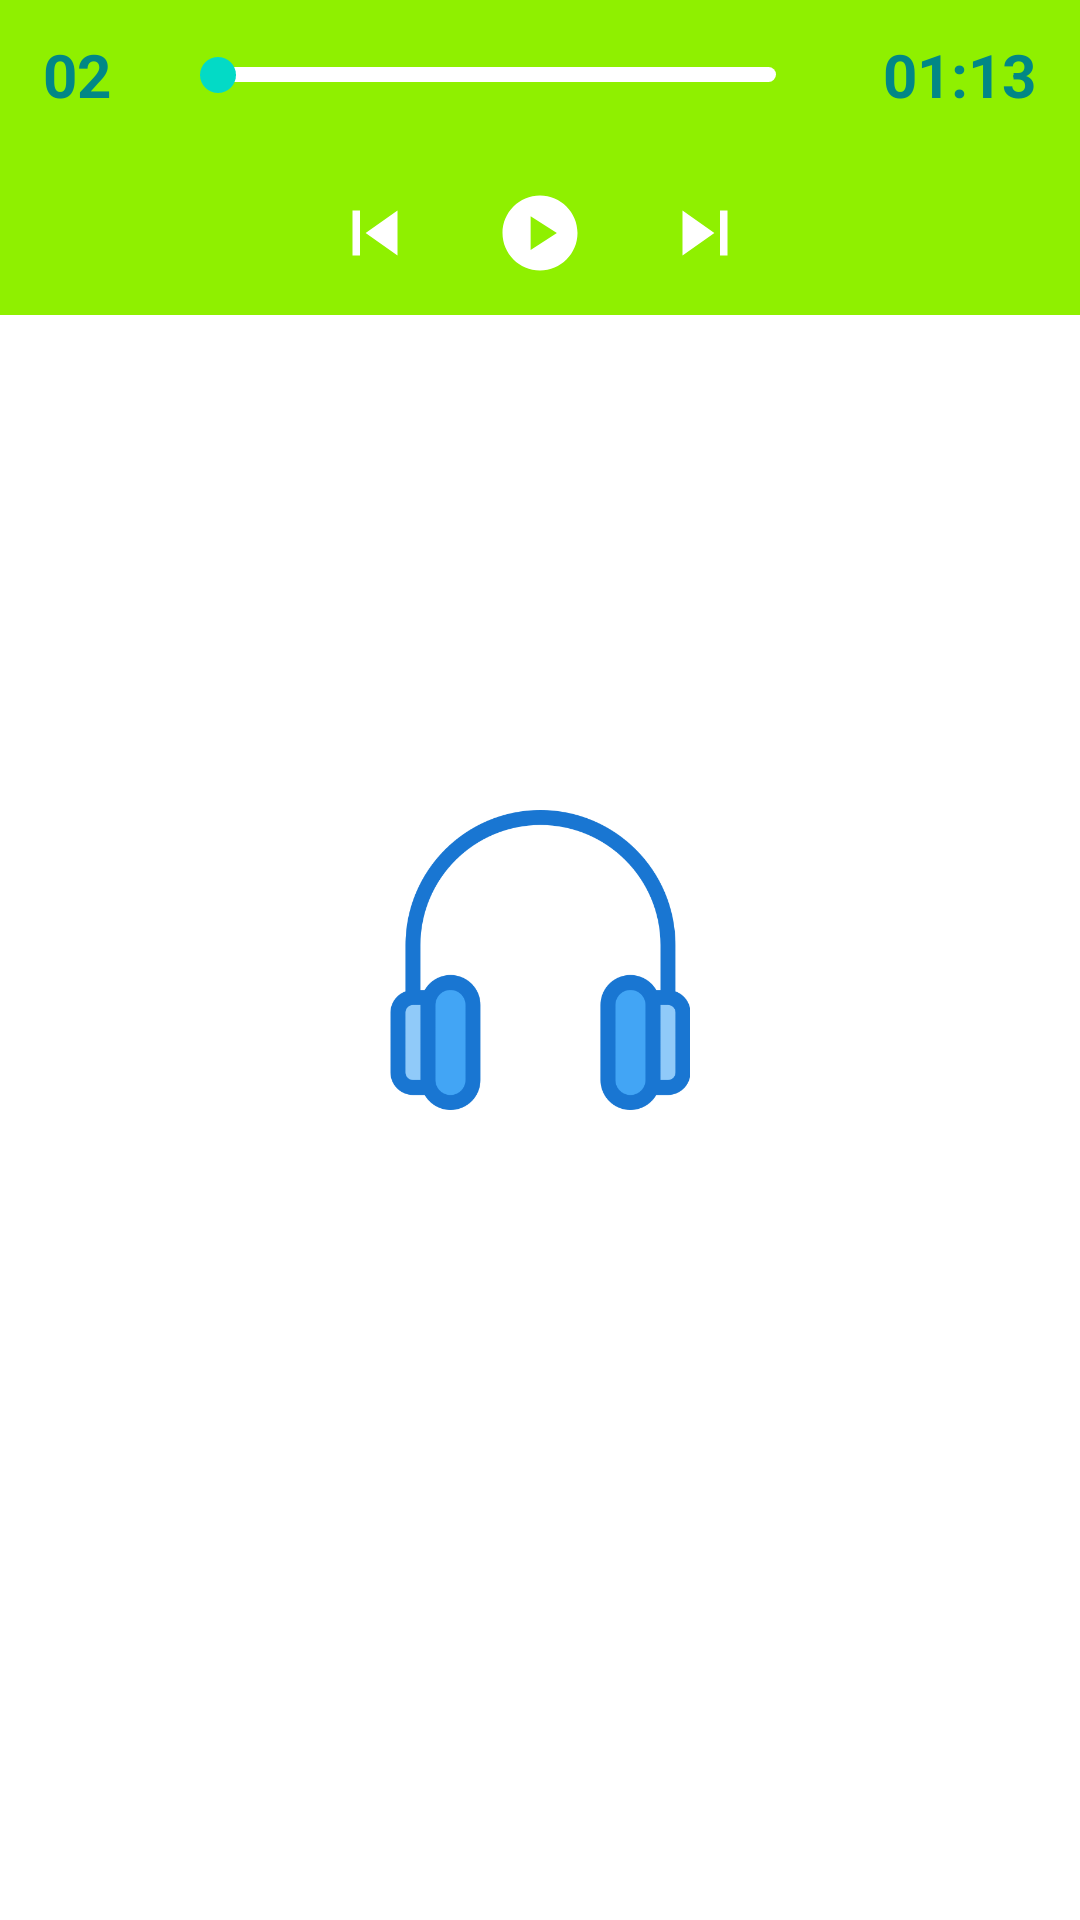

Locate icon controls on the screen. Image size 1080 × 1920, boxes as [x1,y1,x2,y2].
play: [502,195,578,271]
skip next: [682,210,728,256]
skip previous: [352,210,398,256]
